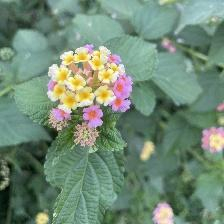common lanthana: (46, 43, 135, 137)
